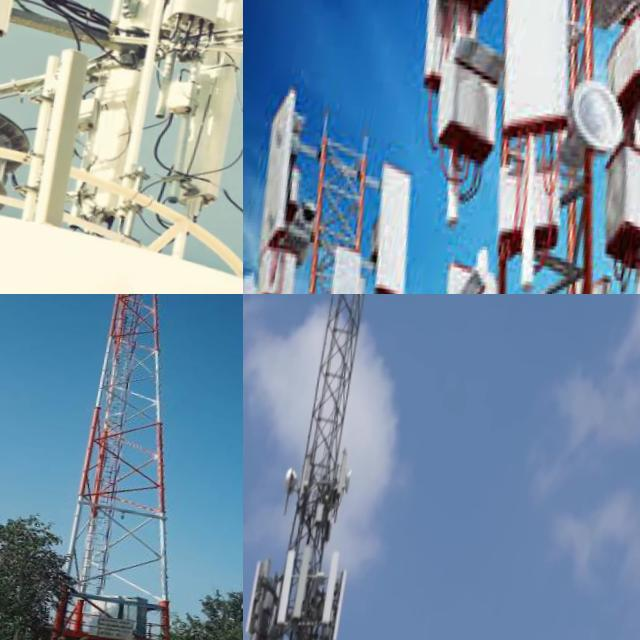GSM Antenna: (8, 37, 114, 226), (474, 0, 614, 141), (180, 0, 243, 214), (251, 85, 317, 245), (363, 158, 435, 294), (322, 236, 384, 294), (319, 545, 354, 640), (243, 556, 277, 640), (278, 550, 307, 640), (333, 565, 363, 640), (295, 561, 321, 640), (339, 453, 357, 508)
Microwave Antenna: (566, 68, 640, 170), (285, 457, 312, 502), (348, 464, 363, 494)
